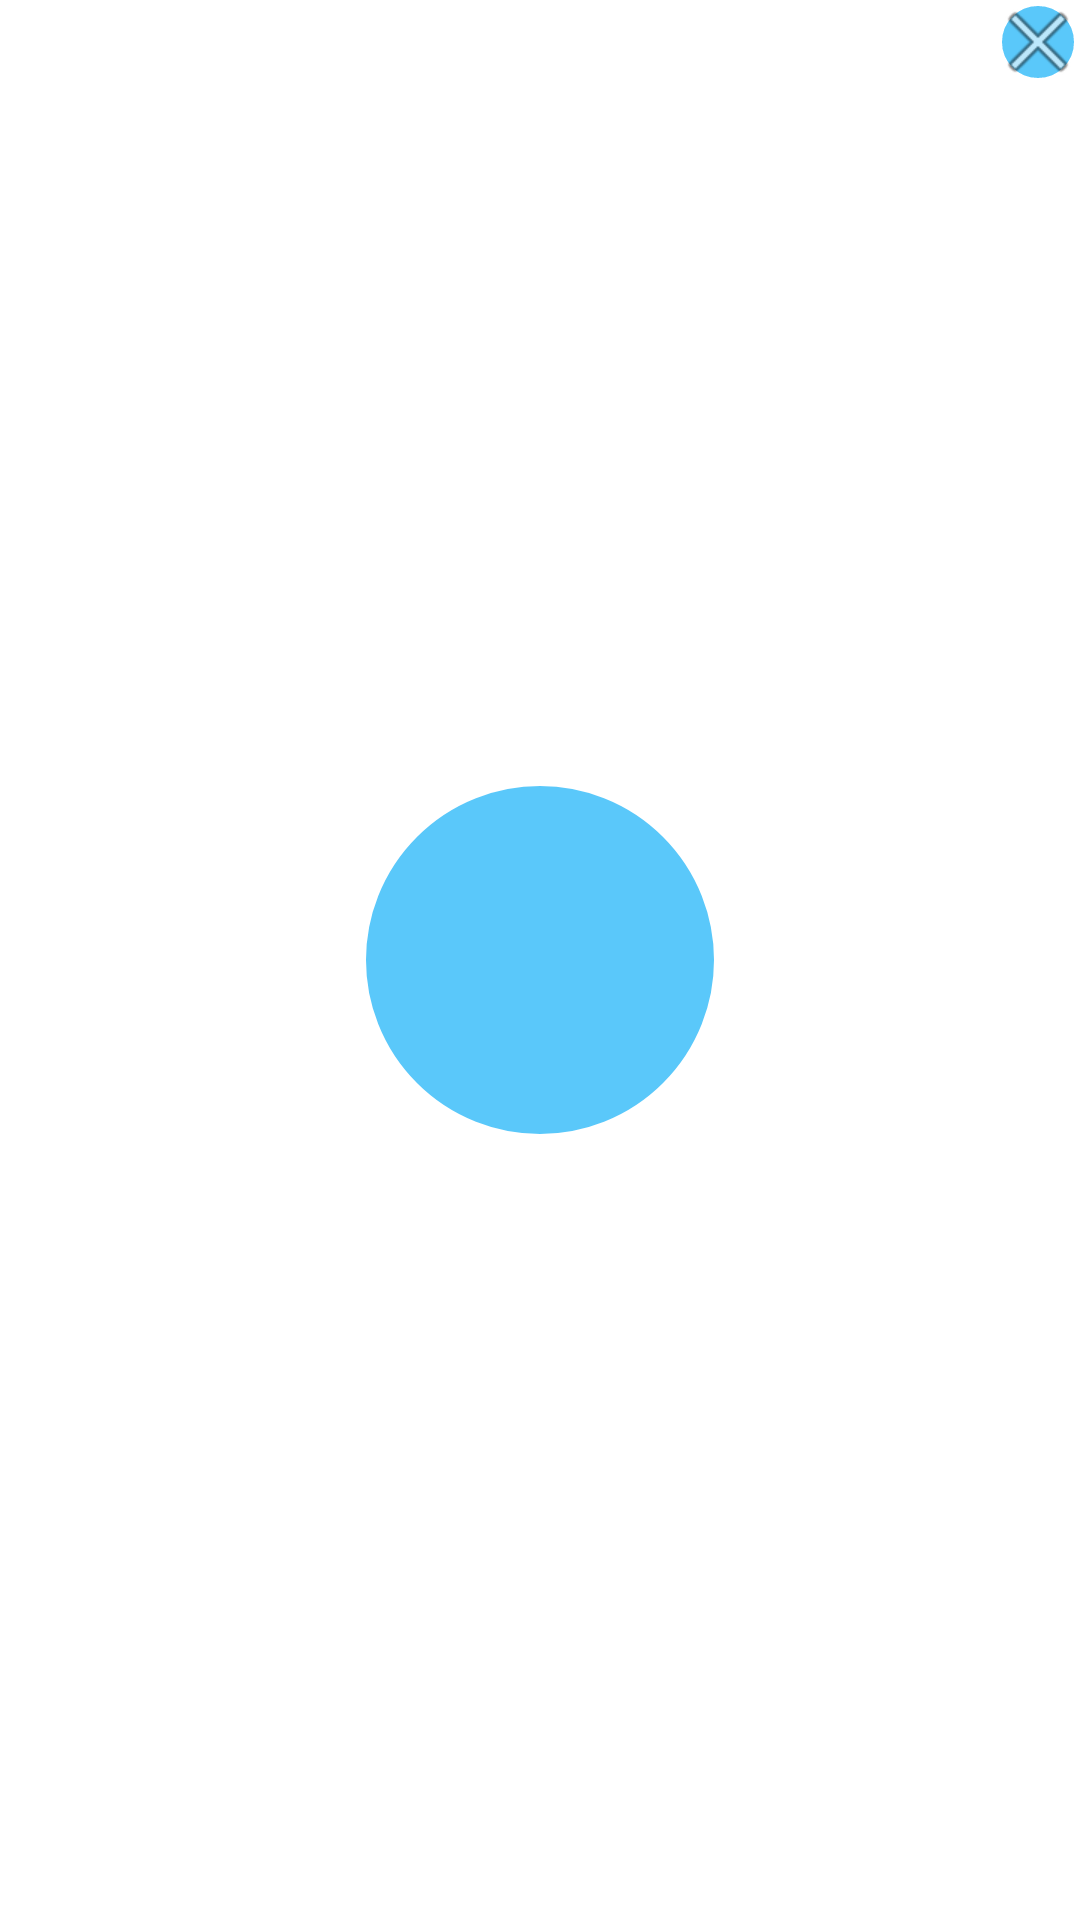

Named icons in this screenshot (1080×1920) and their bounding boxes, (x1, y1, x2, y2):
Stop Bubble: (1002, 6, 1074, 78)
